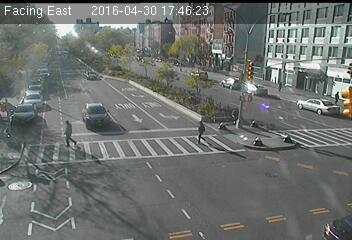neg: (79, 39, 99, 67), (104, 41, 124, 68), (54, 40, 74, 66), (130, 95, 148, 119), (94, 99, 111, 121), (183, 73, 197, 93), (41, 72, 55, 91), (161, 102, 174, 120), (159, 73, 172, 90), (17, 55, 30, 72), (208, 62, 221, 78), (139, 51, 151, 66), (78, 85, 90, 100), (200, 86, 211, 101), (183, 102, 189, 110)
pos: (56, 116, 81, 150), (194, 119, 210, 141), (331, 87, 345, 106), (273, 78, 287, 97), (230, 107, 242, 123), (247, 88, 256, 100)
